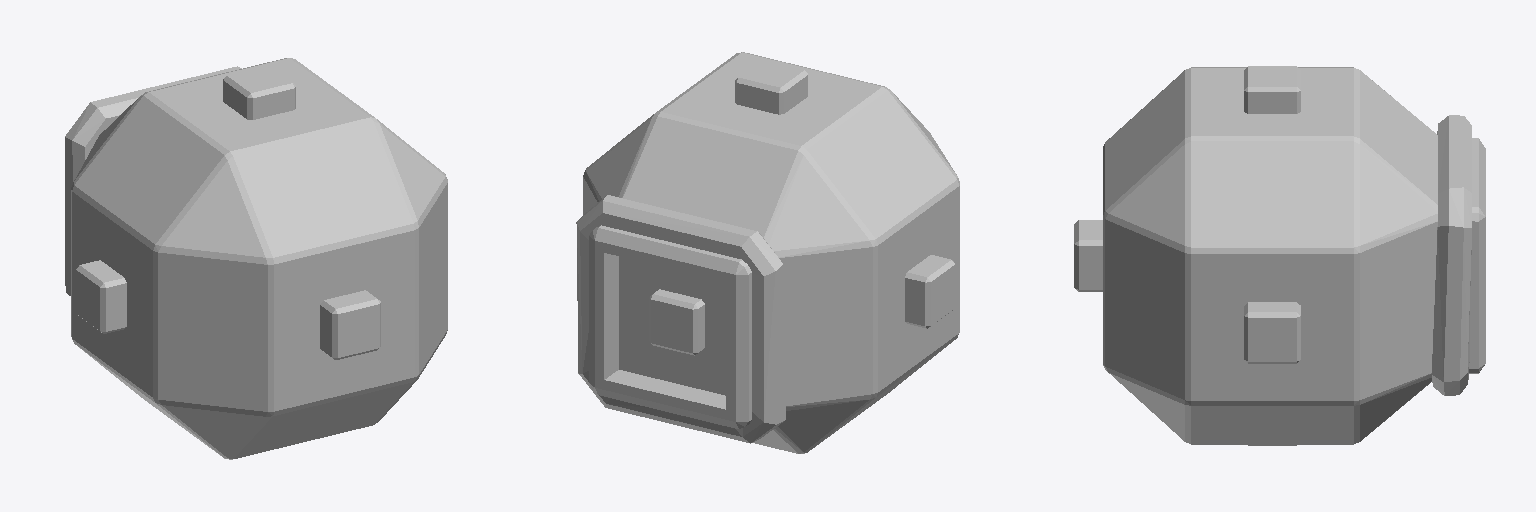
Rendered from ballastTRI.obj.
3 views of the same model, side by side, from view 1: azimuth 30°, elevation 25°; view 2: azimuth 150°, elevation 25°; view 3: azimuth 270°, elevation 25° (orthographic).
Parts seen in each view (by area): view 1: ballast; view 2: ballast; view 3: ballast.
Part boxes in pixels (x1,y1,x2,y2): ballast: (65,58,447,459); ballast: (576,52,959,453); ballast: (1074,66,1485,445).
Size of the model in its own units: 2.56 by 2.56 by 2.66.